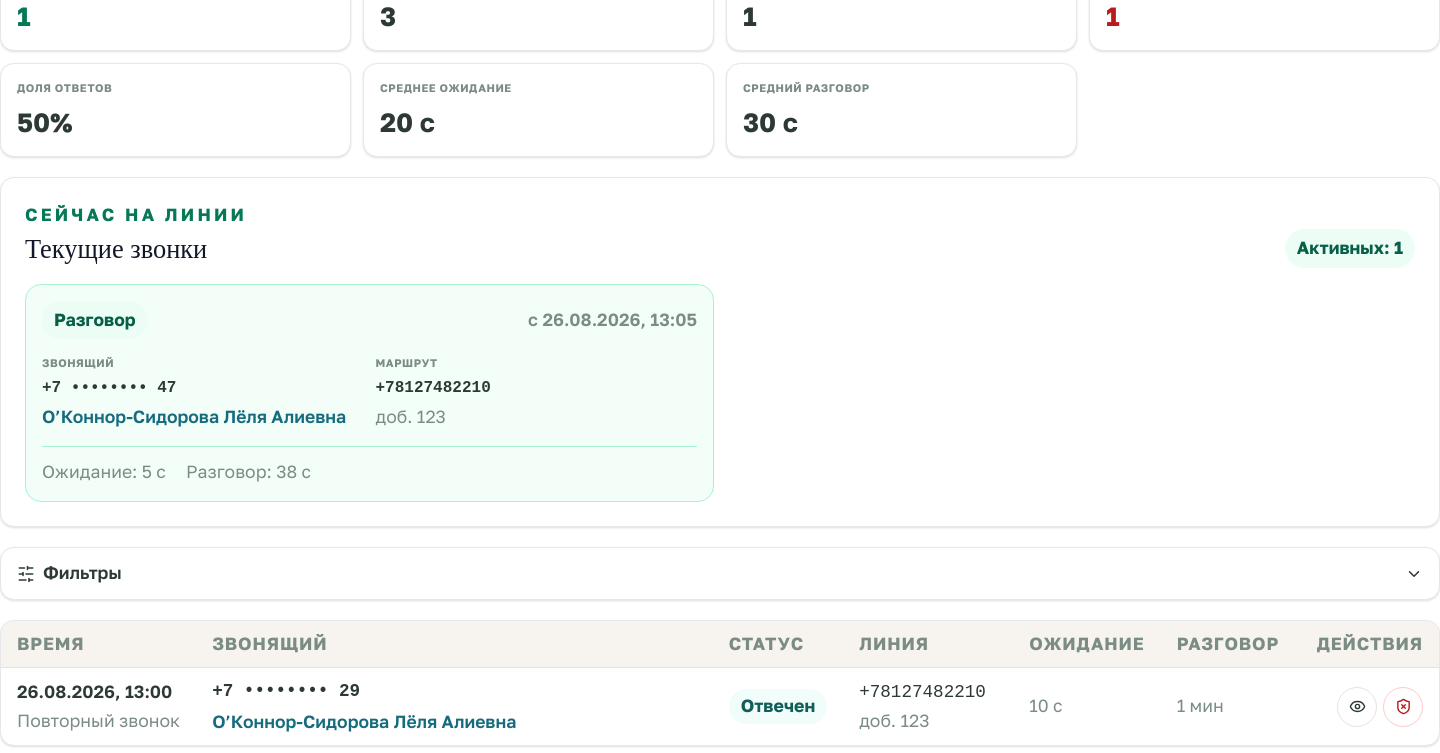
Scenario: Calls admin view › requires confirmation and anonymizes a destroyed caller without deleting metrics
(page scrolled)
Expected: the table is shown, [1,621,1439,745]
Click the button named "Уничтожить номер +7 •••••••• 29": (1403, 707) [1383,687,1423,727]
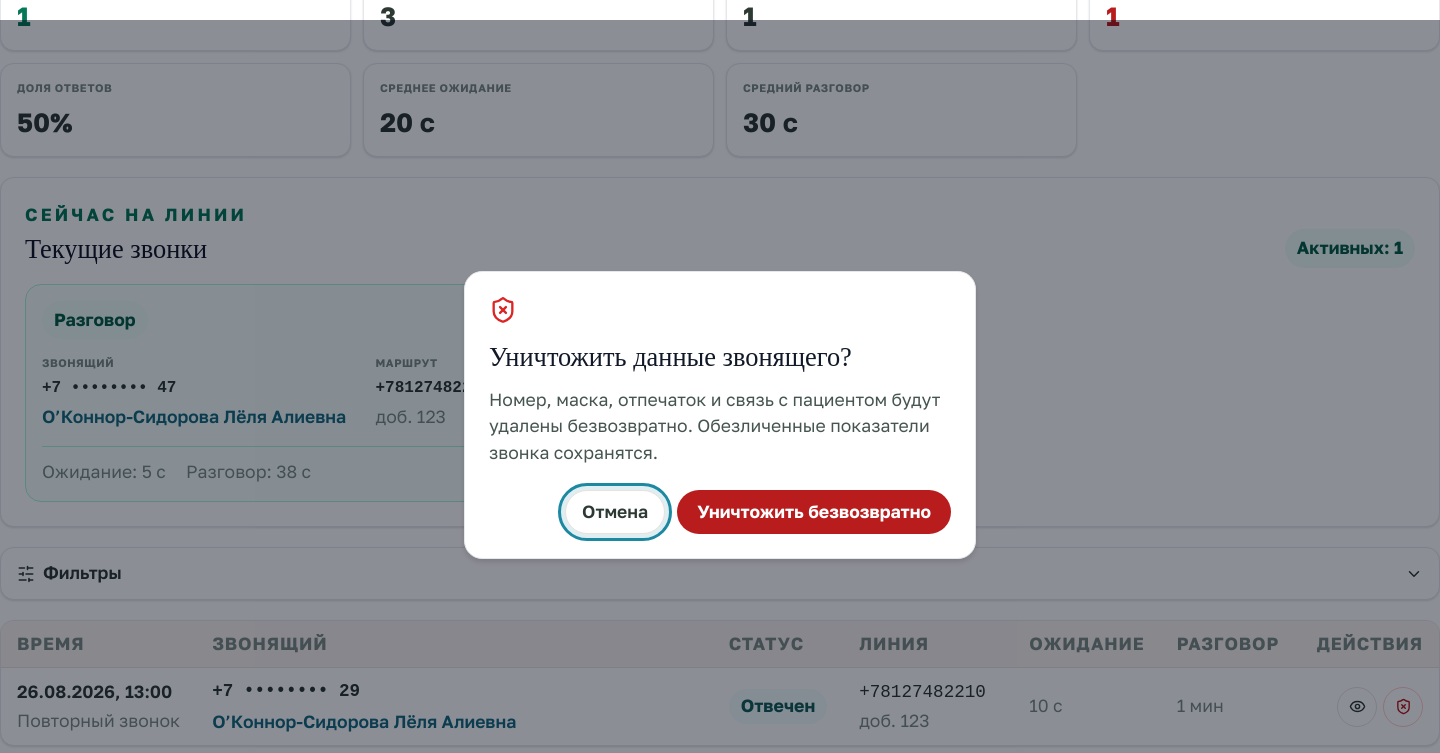
Expected: the dialog "Уничтожить данные звонящего?" is shown, [464,271,976,559]
Click the button "Уничтожить безвозвратно": (814, 512) [677,490,951,534]
(page scrolled)
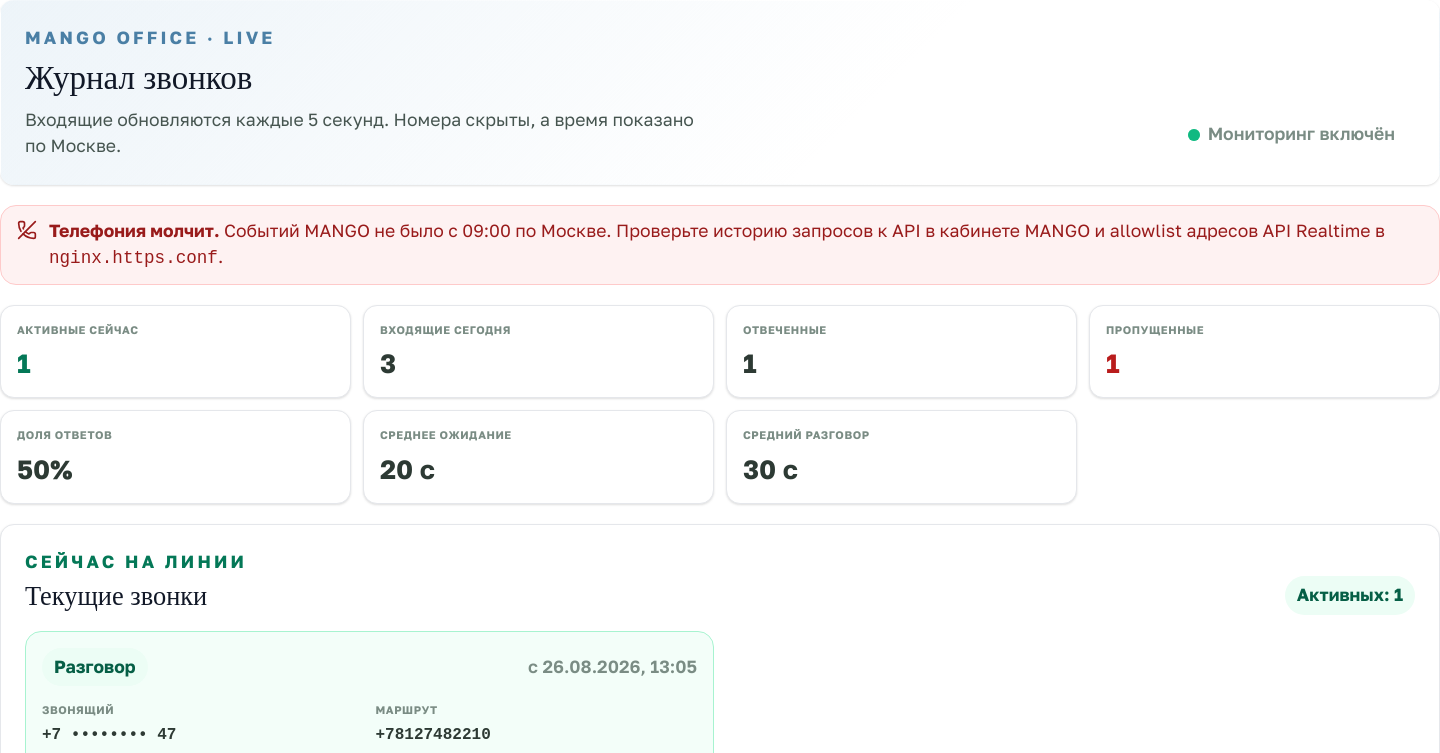
Expected: the text "+7 •••••••• 29" is gone
